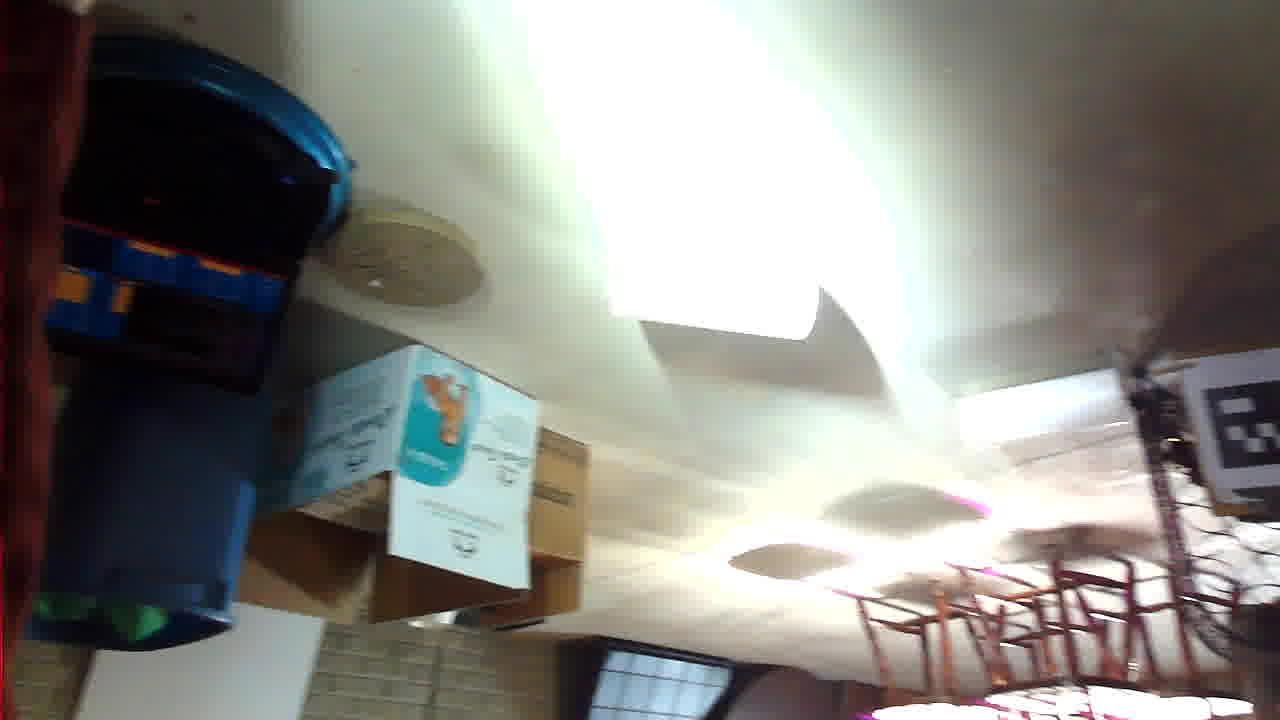coral: (157, 271, 322, 351)
